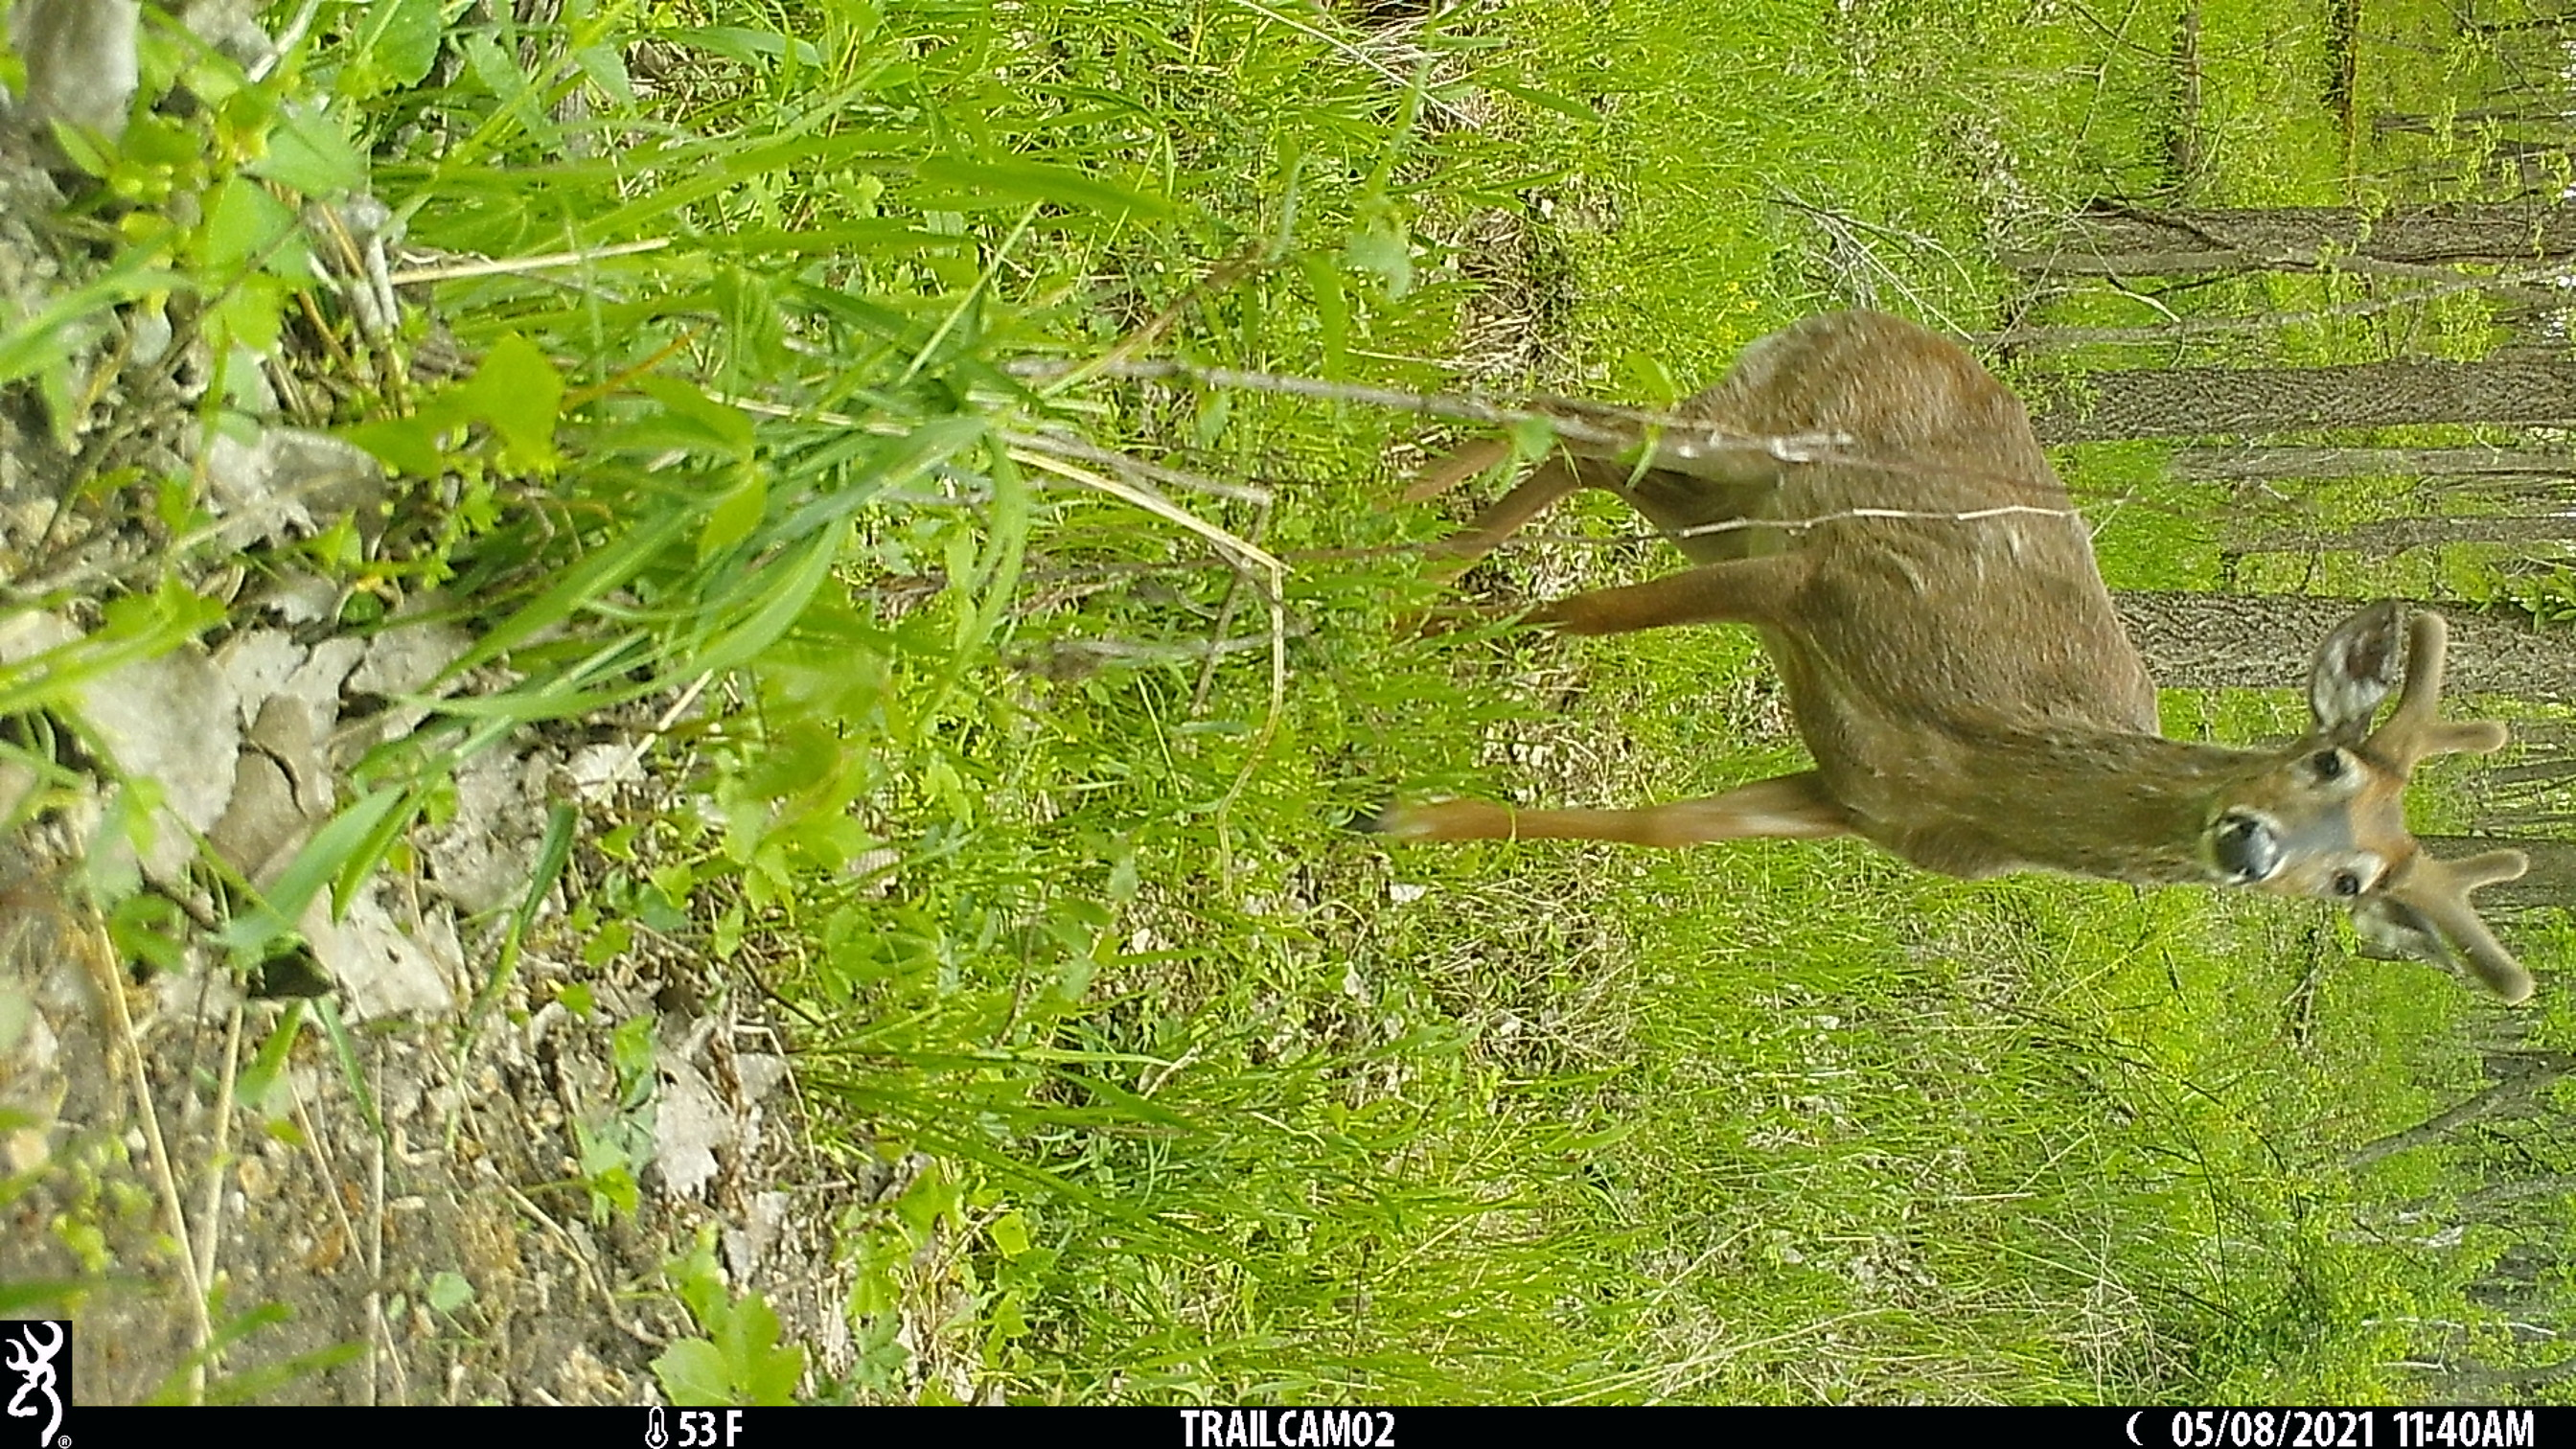DeerBuck: (1372, 298, 2540, 1005)
DeerBuckHead: (2196, 593, 2543, 1005)
